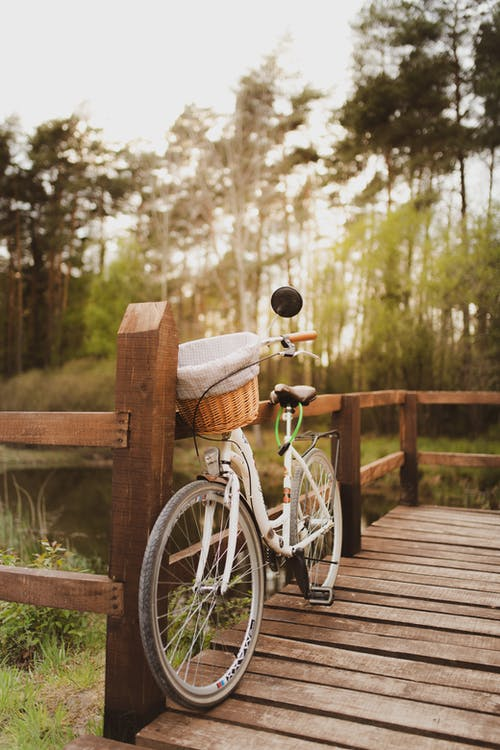bicycle: (133, 278, 352, 721)
